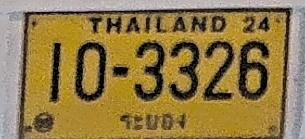0: (75, 41, 106, 101)
1: (50, 42, 61, 102)
2: (203, 40, 234, 100)
3: (134, 40, 165, 100), (170, 40, 200, 100)
6: (238, 40, 269, 100)
RYG: (116, 109, 190, 134)
